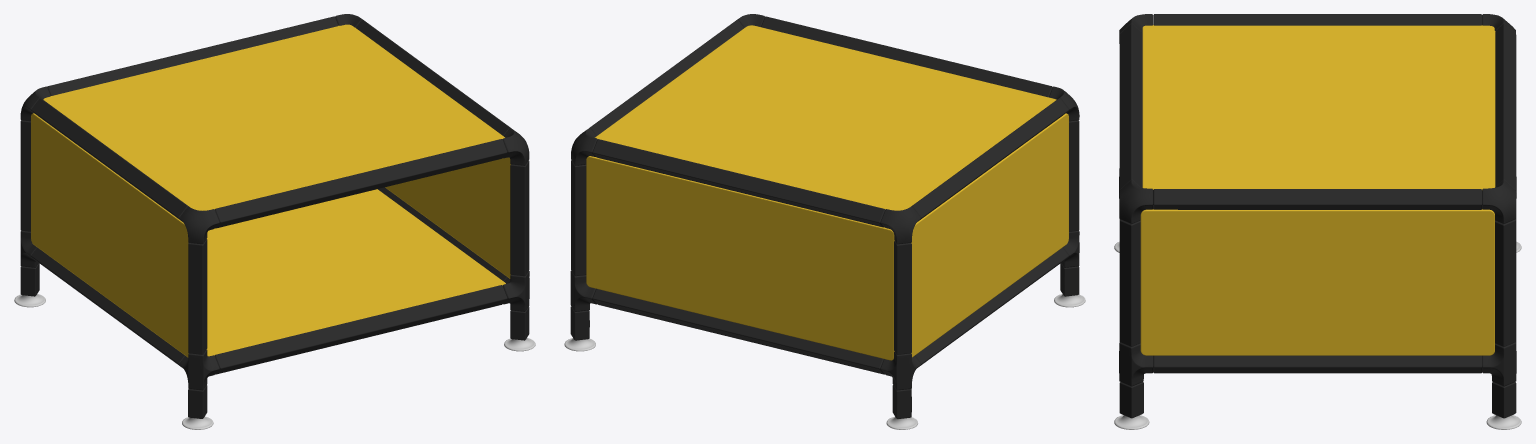
The picture shows the model from 3 angles, left to right: view 1: azimuth 30°, elevation 25°; view 2: azimuth 150°, elevation 25°; view 3: azimuth 270°, elevation 25°; orthographic projection. The views are drawn at different scales.
Parts seen in each view (by area): view 1: 420x374x154; view 2: 420x374x154; view 3: 420x374x154.
Boxes of the visible parts, bbox=[...] form: 420x374x154: bbox=[14, 14, 535, 429]; 420x374x154: bbox=[564, 14, 1085, 429]; 420x374x154: bbox=[1114, 14, 1521, 429].
Size of the model in its own units: 0.5099 by 0.2933 by 0.4631.
